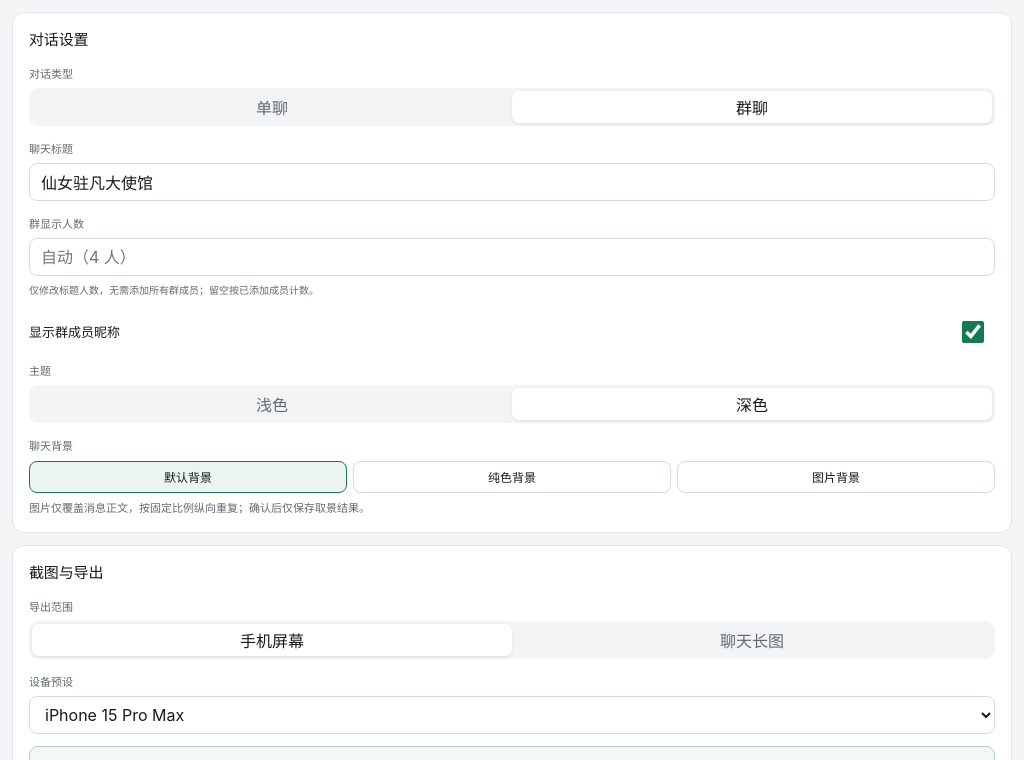
it: SettingsPanel › opens advanced output controls when custom sizing is selected
This screenshot has width=1024, height=760.
Select "自定义尺寸" in the dropdown labelled "设备预设": (512, 715) [29,696,995,734]
(page scrolled)
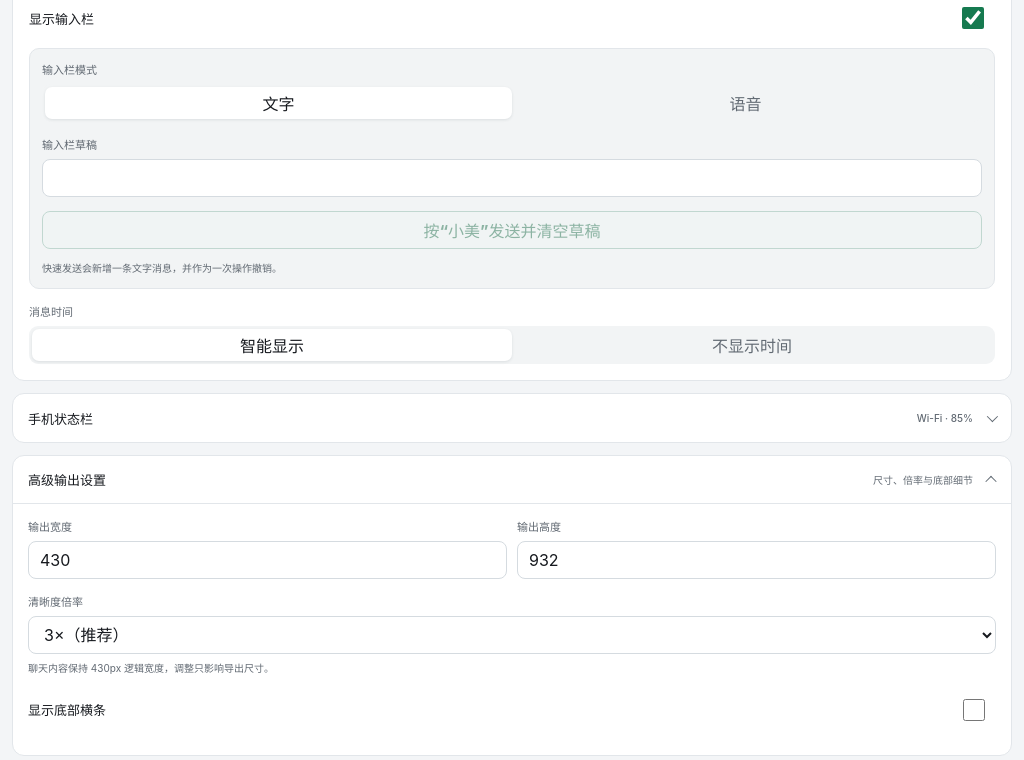
Result: the number field labelled "输出宽度" is shown at [28,541,507,579]
